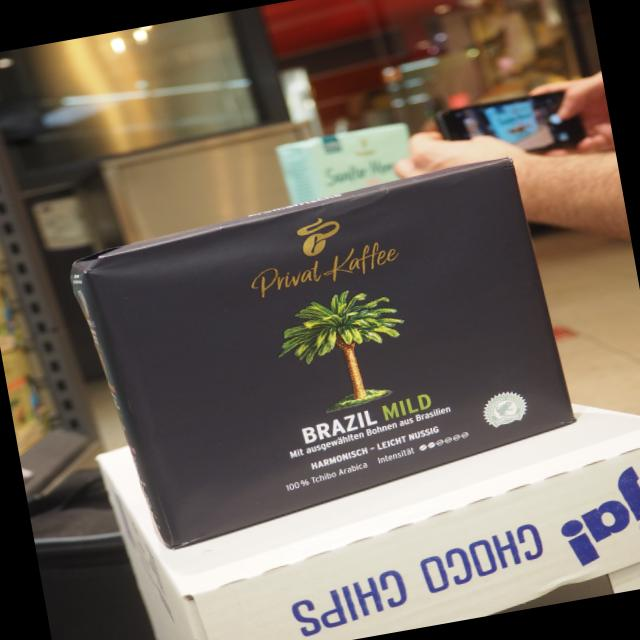BM Gemahlen: (58, 151, 583, 560)
